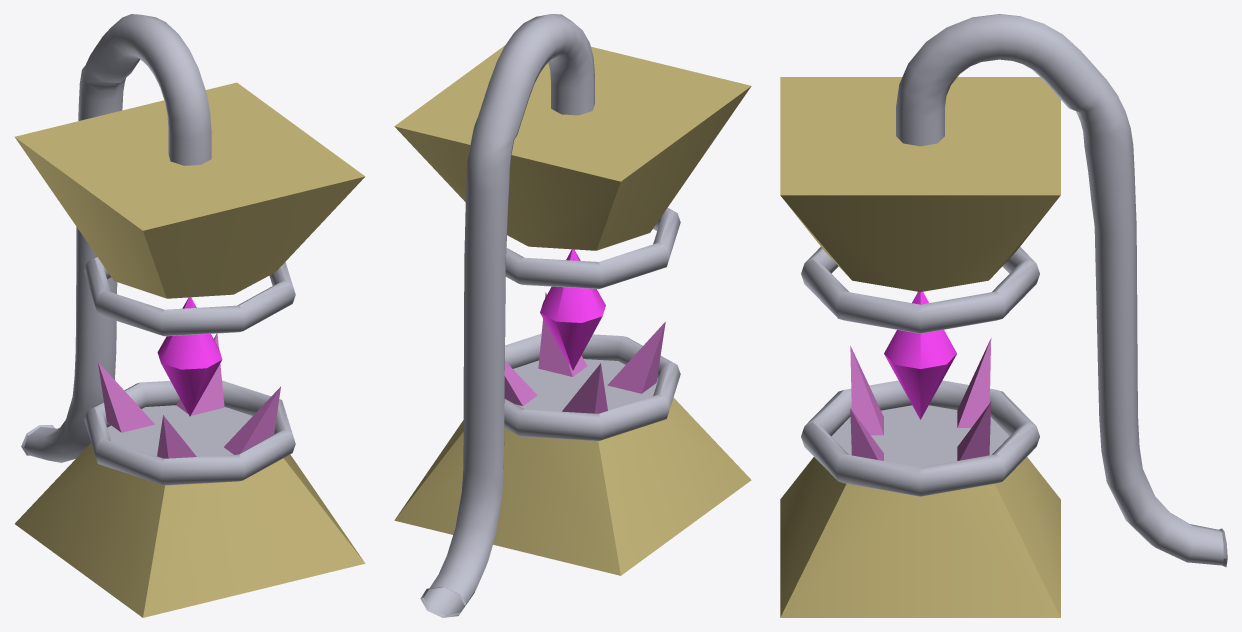
Rendered from riacter2.fbx.
3 views of the same model, side by side, from view 1: azimuth 30°, elevation 25°; view 2: azimuth 150°, elevation 25°; view 3: azimuth 270°, elevation 25° (orthographic). The views are drawn at different scales.
Visible parts, largest first — view 1: riactor; view 2: riactor; view 3: riactor.
Part boxes in pixels (bbox=[...]): riactor: bbox=[14, 14, 365, 617]; riactor: bbox=[394, 14, 751, 617]; riactor: bbox=[780, 14, 1227, 617].
Size of the model in its own units: 200 by 437 by 319.
